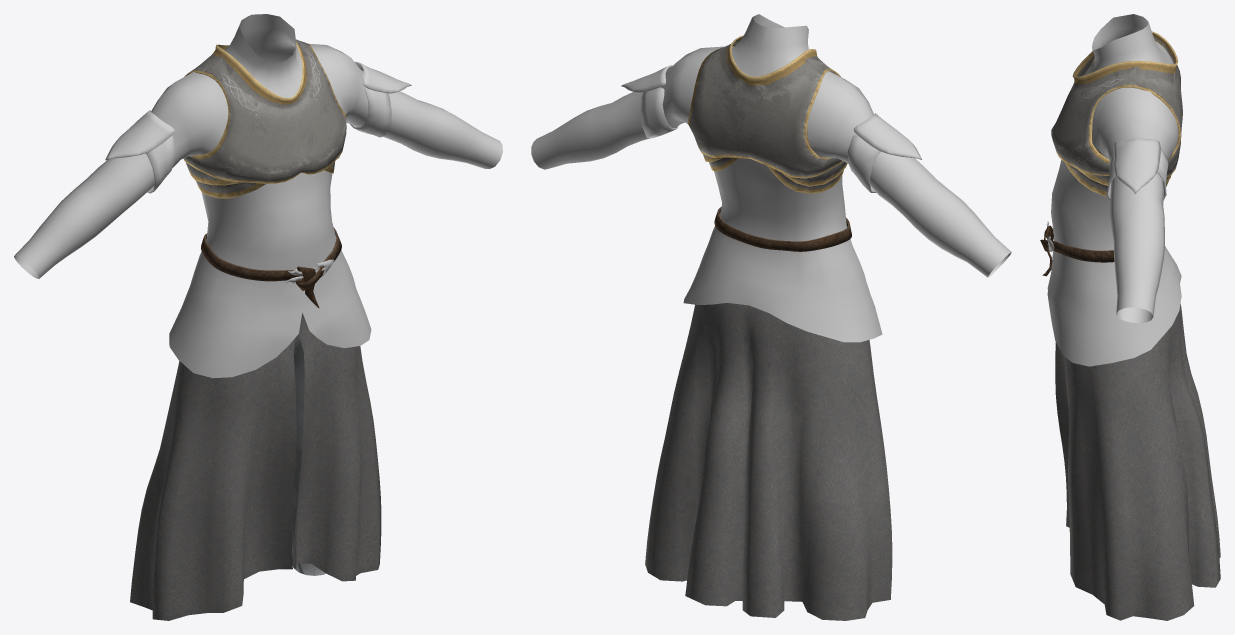
Rendered from rivendell_torso_scalemail_tier2_silvergoldb.fbx.
The picture shows the model from 3 angles, left to right: view 1: azimuth 30°, elevation 25°; view 2: azimuth 150°, elevation 25°; view 3: azimuth 270°, elevation 25°; orthographic projection. The views are drawn at different scales.
Parts seen in each view (by area): view 1: rivendell_torso_scalemail_tier2_silvergoldb.0, rivendell_torso_scalemail_tier2_silvergoldb.4, rivendell_torso_scalemail_tier2_silvergoldb.3, rivendell_torso_scalemail_tier2_silvergoldb.2, rivendell_torso_scalemail_tier2_silvergoldb.1; view 2: rivendell_torso_scalemail_tier2_silvergoldb.0, rivendell_torso_scalemail_tier2_silvergoldb.4, rivendell_torso_scalemail_tier2_silvergoldb.3, rivendell_torso_scalemail_tier2_silvergoldb.2, rivendell_torso_scalemail_tier2_silvergoldb.1; view 3: rivendell_torso_scalemail_tier2_silvergoldb.0, rivendell_torso_scalemail_tier2_silvergoldb.4, rivendell_torso_scalemail_tier2_silvergoldb.3, rivendell_torso_scalemail_tier2_silvergoldb.2, rivendell_torso_scalemail_tier2_silvergoldb.1.
Part boxes in pixels (x1,y1,x2,y2): rivendell_torso_scalemail_tier2_silvergoldb.0: [130, 313, 381, 620]; rivendell_torso_scalemail_tier2_silvergoldb.4: [14, 14, 502, 378]; rivendell_torso_scalemail_tier2_silvergoldb.3: [183, 39, 346, 198]; rivendell_torso_scalemail_tier2_silvergoldb.2: [105, 61, 411, 193]; rivendell_torso_scalemail_tier2_silvergoldb.1: [201, 227, 341, 308]; rivendell_torso_scalemail_tier2_silvergoldb.0: [645, 303, 892, 620]; rivendell_torso_scalemail_tier2_silvergoldb.4: [531, 14, 1011, 342]; rivendell_torso_scalemail_tier2_silvergoldb.3: [688, 36, 847, 193]; rivendell_torso_scalemail_tier2_silvergoldb.2: [621, 65, 921, 192]; rivendell_torso_scalemail_tier2_silvergoldb.1: [714, 207, 851, 251]; rivendell_torso_scalemail_tier2_silvergoldb.0: [1055, 304, 1220, 620]; rivendell_torso_scalemail_tier2_silvergoldb.4: [1047, 14, 1181, 366]; rivendell_torso_scalemail_tier2_silvergoldb.3: [1051, 31, 1182, 196]; rivendell_torso_scalemail_tier2_silvergoldb.2: [1106, 138, 1168, 200]; rivendell_torso_scalemail_tier2_silvergoldb.1: [1040, 221, 1114, 276].
Size of the model in its own units: 1.27 by 0.4287 by 1.44.
